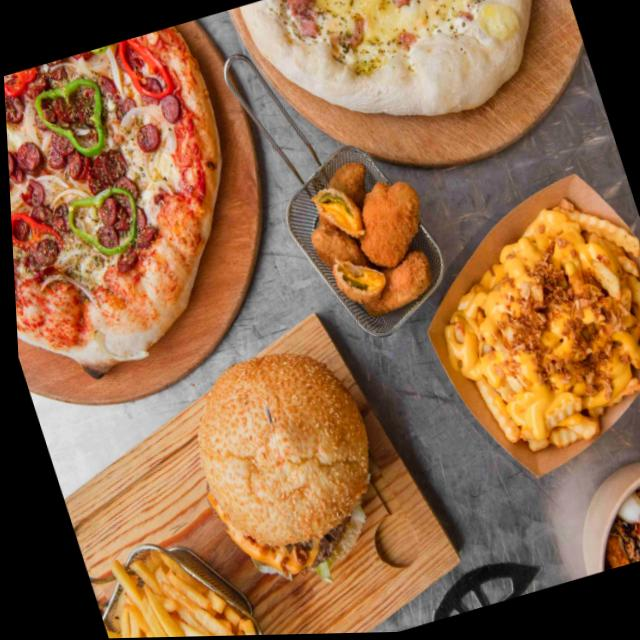burger: (158, 333, 399, 599)
pizza: (1, 19, 284, 398), (236, 0, 594, 162)
